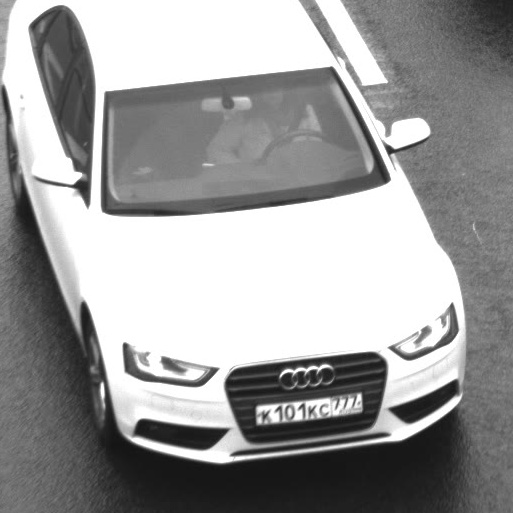plate: (244, 378, 373, 434)
